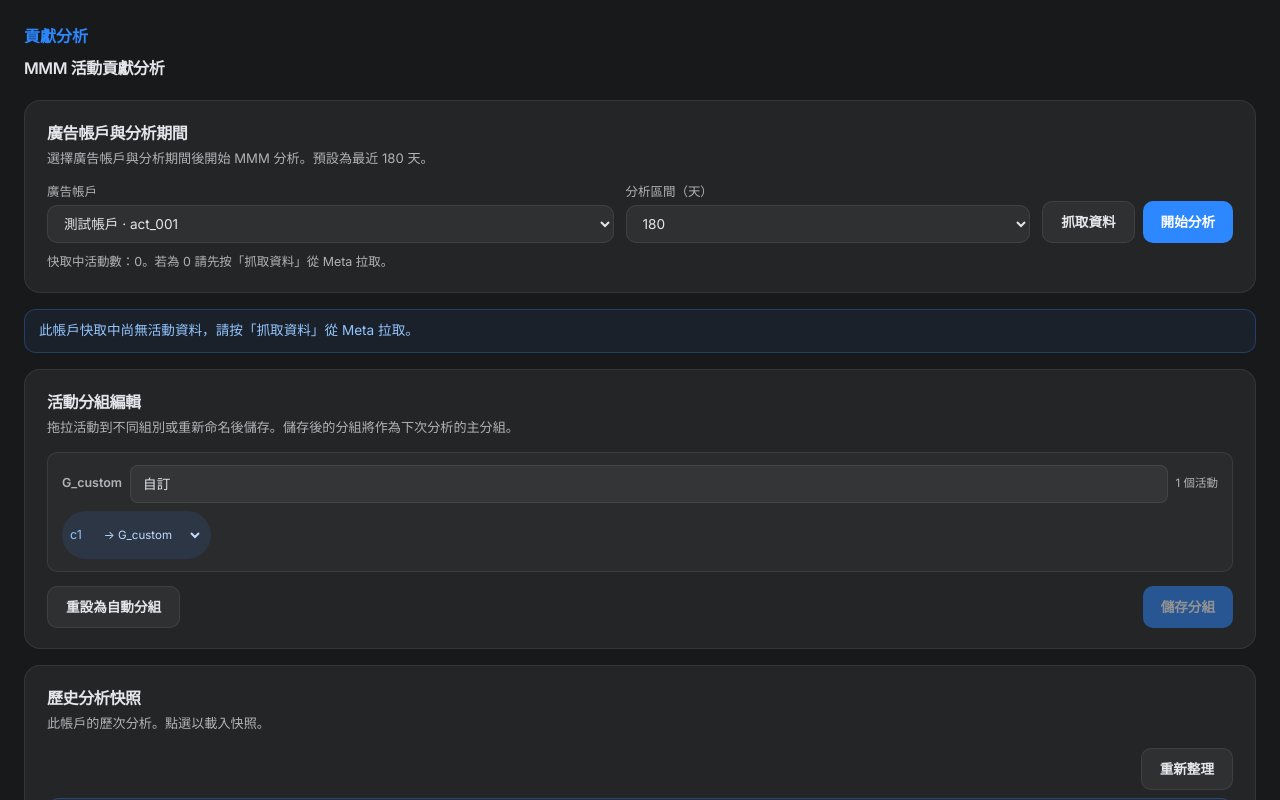
Scenario: ContributionAnalysis › resets groups to auto after user confirms (docs/27 任務 6.2)
The image size is (1280, 800).
Expected: the text "G_custom" is shown, [62,474,122,493]
Click the button "重設為自動分組" at (114, 607), box [47,586,180,628]
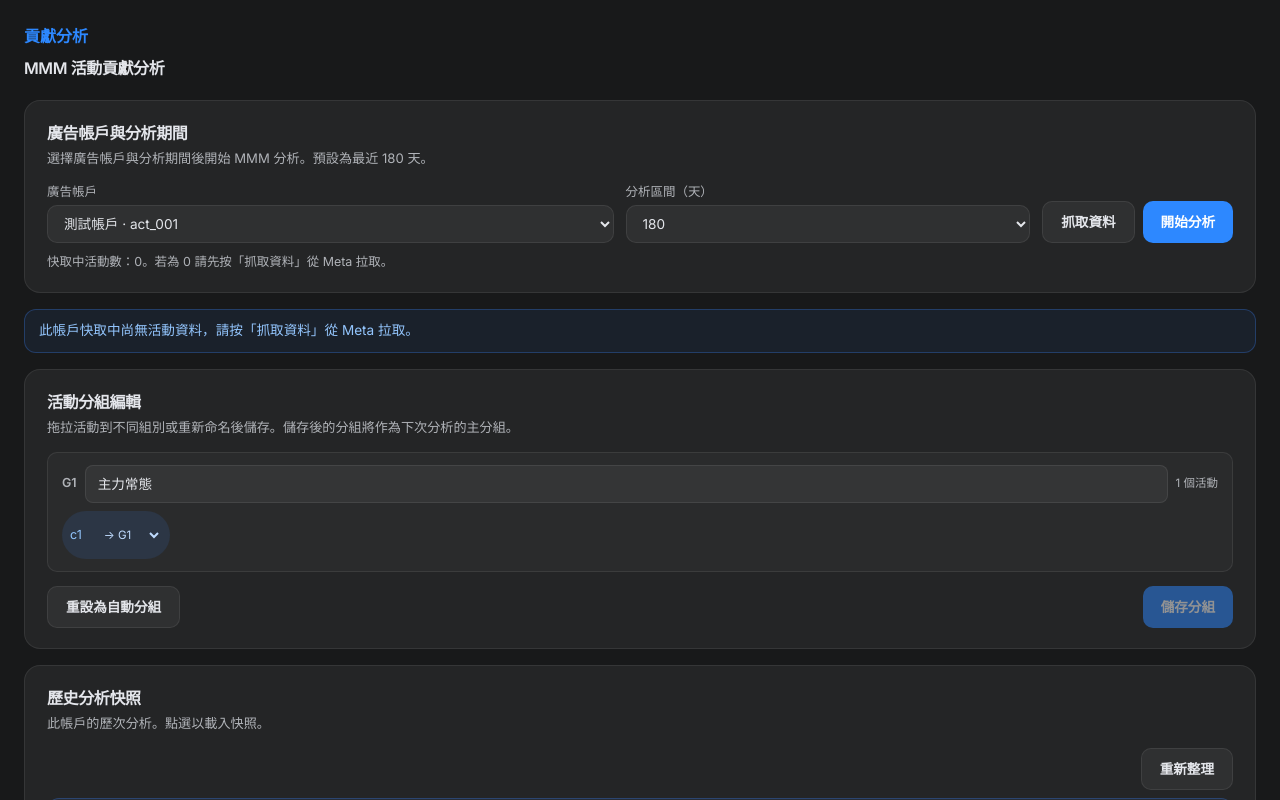
Expected: the text "G1" is shown, [62,474,77,493]
Expected: the text "G_custom" is gone
